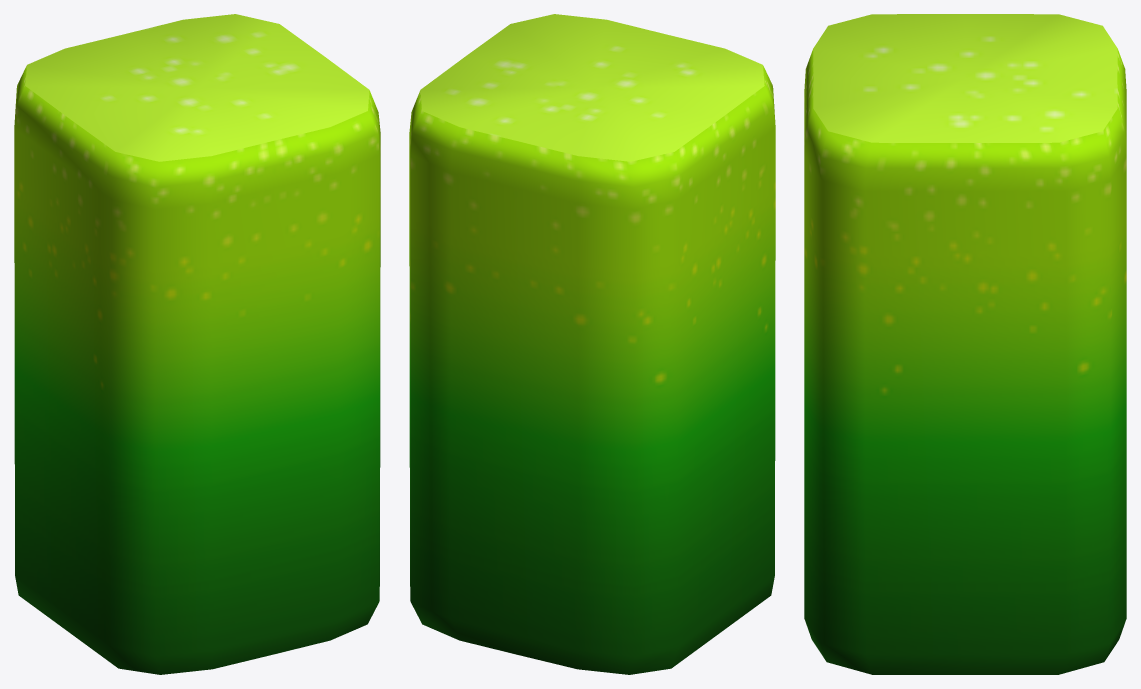
Rendered from Juice_Bottle_Liquid001.FBX.
3 renders of one model, left to right at view 1: azimuth 30°, elevation 25°; view 2: azimuth 150°, elevation 25°; view 3: azimuth 270°, elevation 25°, orthographic. The views are drawn at different scales.
Visible parts, largest first — view 1: Juice_Bottle_Liquid001; view 2: Juice_Bottle_Liquid001; view 3: Juice_Bottle_Liquid001.
Part boxes in pixels (x1,y1,x2,y2): Juice_Bottle_Liquid001: [14, 14, 380, 674]; Juice_Bottle_Liquid001: [409, 14, 775, 674]; Juice_Bottle_Liquid001: [804, 14, 1126, 674].
Bounding box in the file's own units: 9.49 × 17.28 × 9.5.
